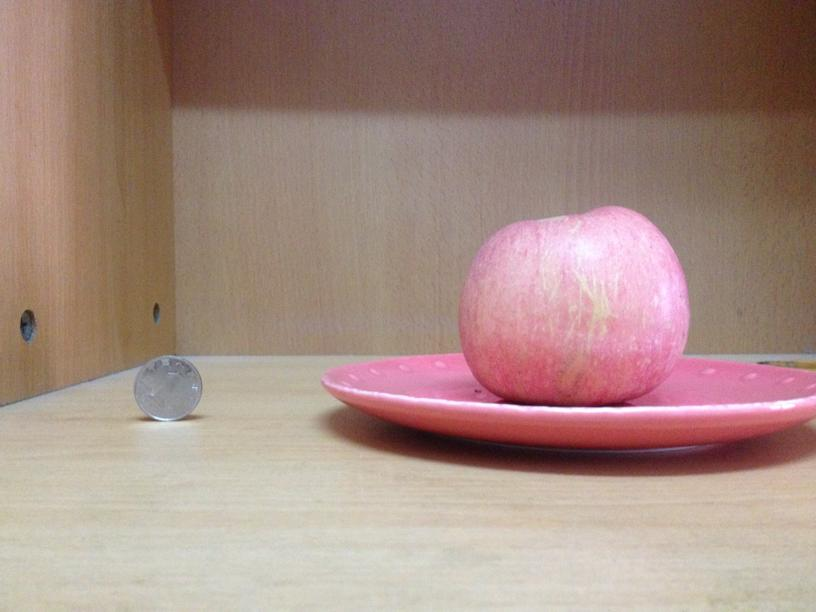apple: (455, 207, 688, 406)
coin: (132, 354, 202, 420)
